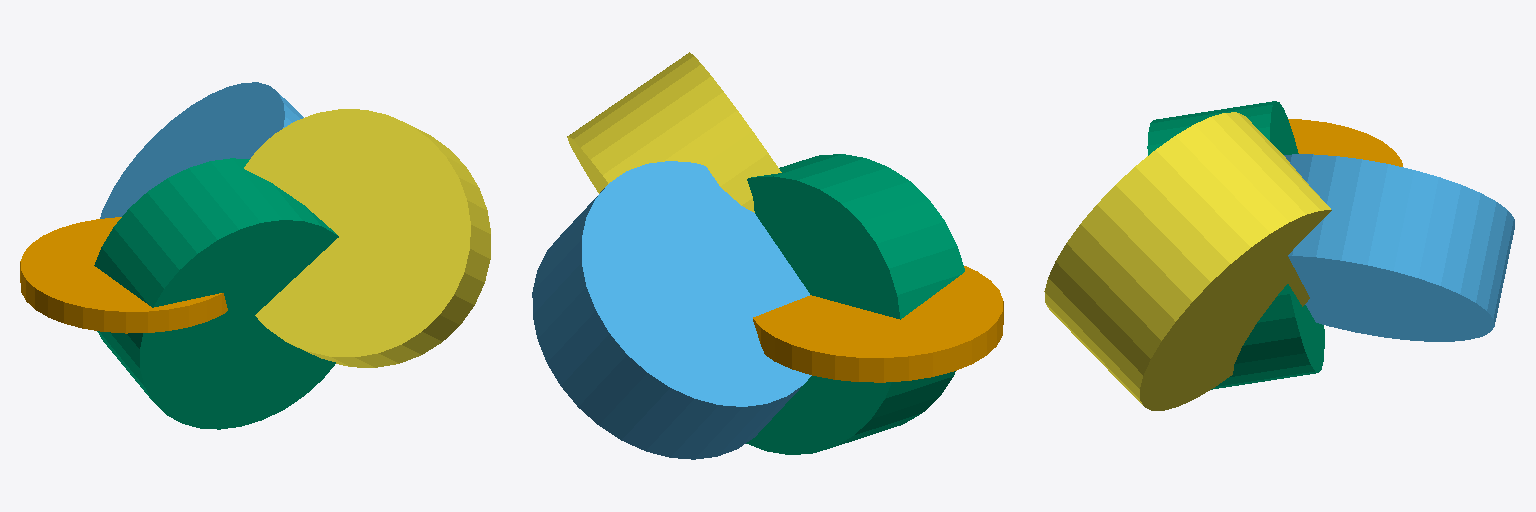
robot.urdf — pepe:
<?xml version="1.0"?><robot name="pepe">
	<link name="0">
		<visual>
			<geometry>
				<cylinder length="0.14300582825809938" radius="0.6759813272619554"/>
			</geometry>
		</visual>
		<collision>
			<geometry>
				<cylinder length="0.14300582825809938" radius="0.6759813272619554"/>
			</geometry>
		</collision>
		<inertial>
			<mass value="0.20529246498672757"/>
			<inertia ixx="0.03" iyy="0.03" izz="0.03" ixy="0" ixz="0" iyx="0"/>
		</inertial>
	</link>
	<link name="11">
		<visual>
			<geometry>
				<cylinder length="0.5815774073442912" radius="0.7423137807477789"/>
			</geometry>
		</visual>
		<collision>
			<geometry>
				<cylinder length="0.5815774073442912" radius="0.7423137807477789"/>
			</geometry>
		</collision>
		<inertial>
			<mass value="1.0067750539773506"/>
			<inertia ixx="0.03" iyy="0.03" izz="0.03" ixy="0" ixz="0" iyx="0"/>
		</inertial>
	</link>
	<link name="22">
		<visual>
			<geometry>
				<cylinder length="0.6815774073442912" radius="0.749925"/>
			</geometry>
		</visual>
		<collision>
			<geometry>
				<cylinder length="0.6815774073442912" radius="0.749925"/>
			</geometry>
		</collision>
		<inertial>
			<mass value="1.204205821572845"/>
			<inertia ixx="0.03" iyy="0.03" izz="0.03" ixy="0" ixz="0" iyx="0"/>
		</inertial>
	</link>
	<link name="33">
		<visual>
			<geometry>
				<cylinder length="0.7815774073442912" radius="0.749925"/>
			</geometry>
		</visual>
		<collision>
			<geometry>
				<cylinder length="0.7815774073442912" radius="0.749925"/>
			</geometry>
		</collision>
		<inertial>
			<mass value="1.3808850671870638"/>
			<inertia ixx="0.03" iyy="0.03" izz="0.03" ixy="0" ixz="0" iyx="0"/>
		</inertial>
	</link>
	<joint name="11_to_0" type="revolute">
		<parent link="0"/>
		<child link="11"/>
		<axis xyz="0 1 0"/>
		<limit effort="150" lower="-10" upper="10" velocity="1"/>
		<origin rpy="0.7153964219411544 3.1951017714644565 1.3317849921965108" xyz="0.8986042447602102 0.4973313815072722 0.02760601195450363"/>
	</joint>
	<joint name="22_to_11" type="revolute">
		<parent link="11"/>
		<child link="22"/>
		<axis xyz="0 1 0"/>
		<limit effort="150" lower="-10" upper="10" velocity="1"/>
		<origin rpy="1.9720334833770718 3.823420302182415 1.3317849921965108" xyz="0.7986042447602102 0.29733138150727223 0.02760601195450363"/>
	</joint>
	<joint name="33_to_22" type="revolute">
		<parent link="22"/>
		<child link="33"/>
		<axis xyz="0 1 0"/>
		<limit effort="150" lower="-10" upper="10" velocity="1"/>
		<origin rpy="0.7153964219411544 3.823420302182415 1.3317849921965108" xyz="0.7986042447602102 0.29733138150727223 0.12760601195450363"/>
	</joint>
</robot>

--- Render facts (derived) ---
3 views of the same robot in one strip: view 1: azimuth 30°, elevation 25°; view 2: azimuth 150°, elevation 25°; view 3: azimuth 270°, elevation 25° (orthographic).
Robot: pepe — 4 links, 3 joints (3 revolute); root link 0; default pose: all joints at 0.
Visible links, largest first — view 1: 33, 22, 0, 11; view 2: 11, 22, 0, 33; view 3: 33, 11, 22, 0.
Link boxes in pixels (x1,y1,x2,y2): 33: (244, 109, 490, 367); 22: (94, 158, 338, 429); 0: (20, 217, 227, 333); 11: (100, 82, 303, 218); 11: (532, 161, 811, 459); 22: (746, 154, 964, 454); 0: (753, 266, 1003, 382); 33: (567, 52, 781, 212); 33: (1044, 112, 1331, 410); 11: (1284, 154, 1514, 341); 22: (1147, 101, 1324, 389); 0: (1288, 119, 1402, 166).
Size in the robot's own frame: 2.81 by 2.56 by 1.92 metres.
Geometry: primitives only (box / cylinder / sphere), no mesh files.
